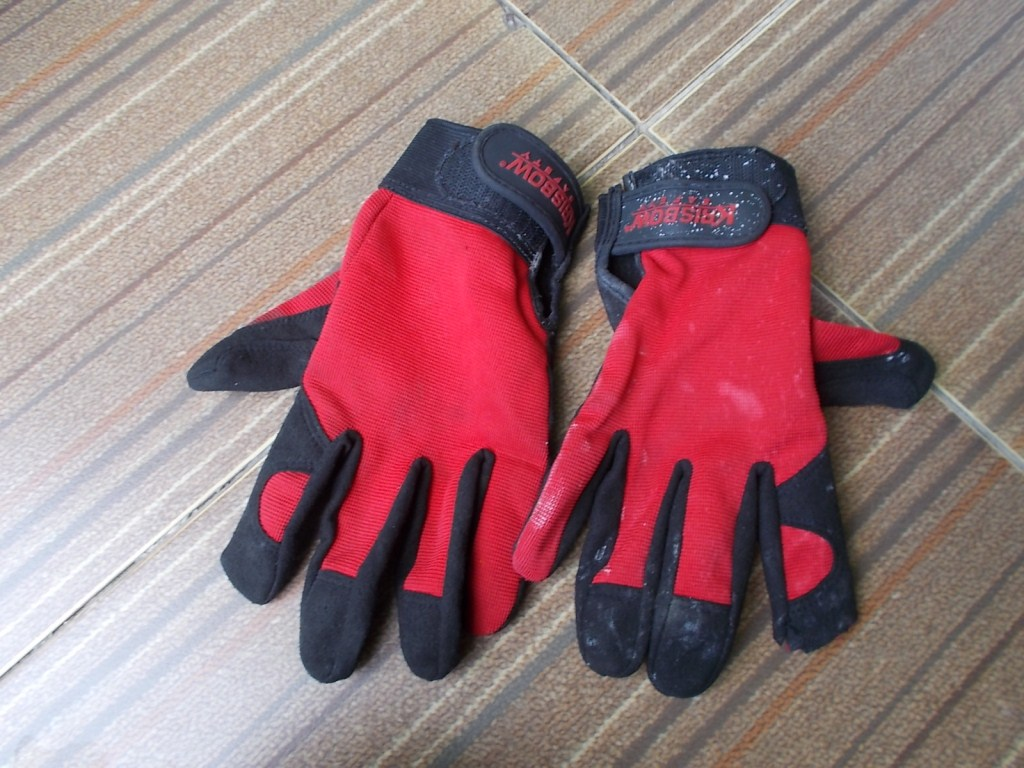SARUNG_TANGAN: (560, 151, 836, 672)
